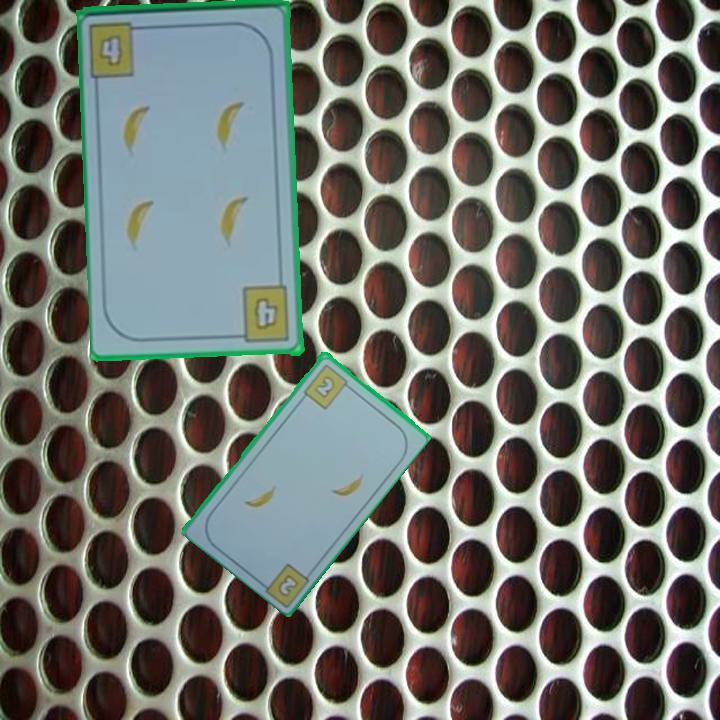2b: (300, 360, 355, 412), (274, 570, 302, 600)
4b: (85, 18, 151, 80), (230, 283, 293, 346)
